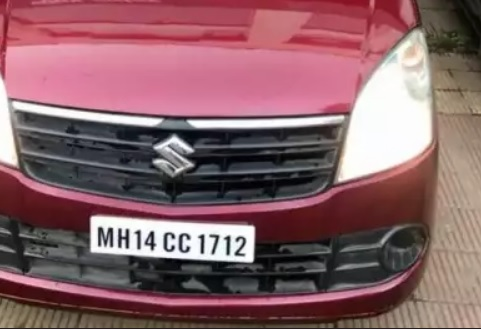licenseplate: (87, 211, 256, 264)
